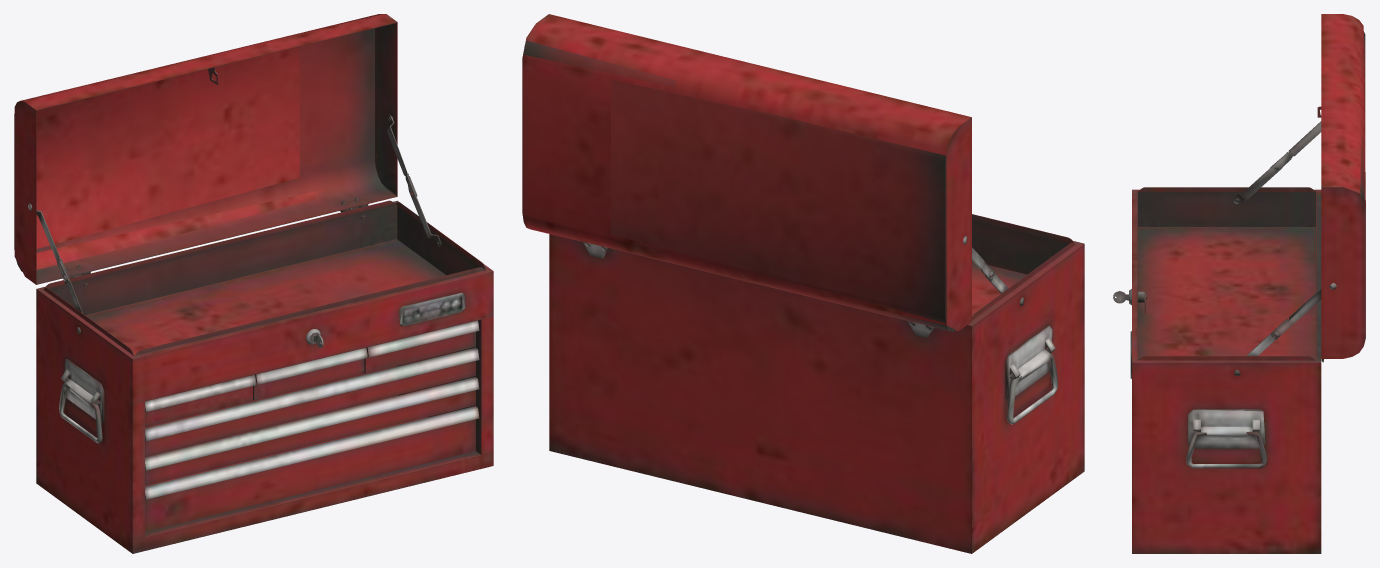
File: metal_tool_chest.glb
3 views of the same model, side by side, from view 1: azimuth 30°, elevation 25°; view 2: azimuth 150°, elevation 25°; view 3: azimuth 270°, elevation 25° (orthographic). The views are drawn at different scales.
Parts seen in each view (by area): view 1: metal_tool_chest_chest, metal_tool_chest_lid, metal_tool_chest_hinge_lid, metal_tool_chest_hinge_chest, metal_tool_chest_handle_left; view 2: metal_tool_chest_chest, metal_tool_chest_lid, metal_tool_chest_handle_left; view 3: metal_tool_chest_chest, metal_tool_chest_lid, metal_tool_chest_hinge_lid, metal_tool_chest_hinge_chest, metal_tool_chest_handle_right, metal_tool_chest_lock.
Boxes of the visible parts, x1,y1,x2,y2 form: metal_tool_chest_chest: (36, 200, 493, 553); metal_tool_chest_lid: (14, 14, 397, 284); metal_tool_chest_hinge_lid: (28, 114, 417, 283); metal_tool_chest_hinge_chest: (59, 173, 441, 333); metal_tool_chest_handle_left: (59, 382, 102, 443); metal_tool_chest_chest: (549, 214, 1084, 553); metal_tool_chest_lid: (522, 14, 971, 331); metal_tool_chest_handle_left: (1007, 353, 1057, 424); metal_tool_chest_chest: (1130, 187, 1323, 553); metal_tool_chest_lid: (1317, 14, 1365, 358); metal_tool_chest_hinge_lid: (1270, 121, 1336, 339); metal_tool_chest_hinge_chest: (1233, 152, 1288, 376); metal_tool_chest_handle_right: (1186, 431, 1267, 468); metal_tool_chest_lock: (1113, 289, 1147, 313).
Bounding box in the file's own units: 0.6841 × 0.6518 × 0.4072.
1 material, 1 textured.
